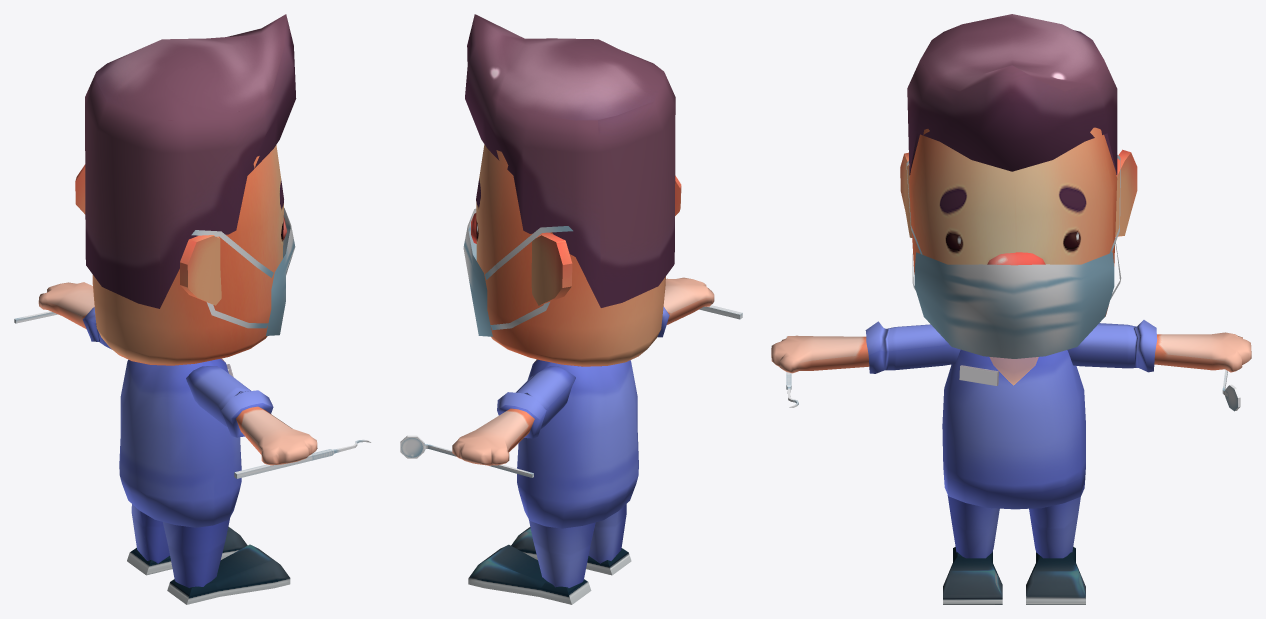
File: Char_Sci_HS_03.fbx
The picture shows the model from 3 angles, left to right: view 1: azimuth 30°, elevation 25°; view 2: azimuth 150°, elevation 25°; view 3: azimuth 270°, elevation 25°; orthographic projection. The views are drawn at different scales.
Parts seen in each view (by area): view 1: Hair_Dentist, Head_Dentist, Body_Dentist, R_Leg_Dentist, R_Arm_Dentist, L_Leg_Dentist, R_Ear_Dentist, Mask_Dentist, L_Arm_Dentist, Stick_Dentist; view 2: Hair_Dentist, Head_Dentist, Body_Dentist, L_Leg_Dentist, L_Arm_Dentist, Mask_Dentist, L_Ear_Dentist, R_Leg_Dentist, R_Arm_Dentist, Mirror_Dentist; view 3: Hair_Dentist, Head_Dentist, Body_Dentist, Mask_Dentist, R_Arm_Dentist, L_Arm_Dentist, R_Leg_Dentist, L_Leg_Dentist, L_Ear_Dentist.
Boxes of the visible parts, box(x1,y1,x2,y2) form: Hair_Dentist: box(85, 14, 296, 308); Head_Dentist: box(92, 145, 283, 365); Body_Dentist: box(119, 358, 241, 527); R_Leg_Dentist: box(163, 518, 290, 604); R_Arm_Dentist: box(186, 366, 317, 465); L_Leg_Dentist: box(127, 504, 247, 575); R_Ear_Dentist: box(180, 235, 221, 305); Mask_Dentist: box(191, 208, 295, 335); L_Arm_Dentist: box(38, 282, 111, 349); Stick_Dentist: box(234, 439, 370, 478); Hair_Dentist: box(465, 14, 675, 307); Head_Dentist: box(476, 144, 665, 366); Body_Dentist: box(517, 359, 638, 528); L_Leg_Dentist: box(468, 520, 595, 604); L_Arm_Dentist: box(452, 366, 575, 465); Mask_Dentist: box(463, 208, 572, 336); L_Ear_Dentist: box(531, 232, 572, 305); R_Leg_Dentist: box(511, 504, 631, 575); R_Arm_Dentist: box(657, 277, 714, 337); Mirror_Dentist: box(400, 435, 533, 477); Hair_Dentist: box(907, 14, 1117, 175); Head_Dentist: box(909, 127, 1117, 316); Body_Dentist: box(942, 349, 1085, 509); Mask_Dentist: box(906, 155, 1121, 358); R_Arm_Dentist: box(771, 321, 960, 373); L_Arm_Dentist: box(1067, 320, 1251, 372); R_Leg_Dentist: box(943, 495, 1002, 604); L_Leg_Dentist: box(1026, 497, 1085, 604); L_Ear_Dentist: box(1115, 149, 1137, 236).
Bounding box in the file's own units: 3.23 × 8.46 × 6.64.
